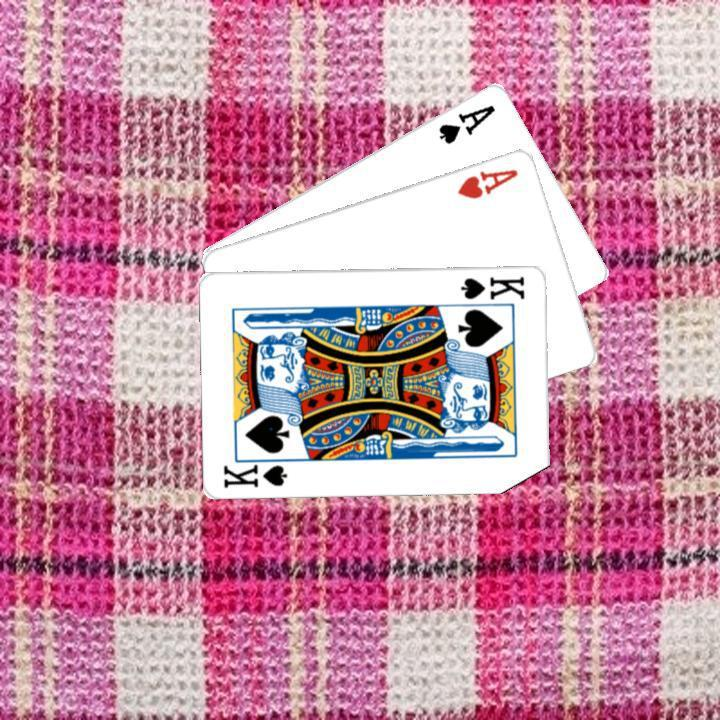A: (434, 100, 497, 146), (453, 164, 520, 200)
K: (220, 453, 296, 489), (456, 271, 528, 301)
